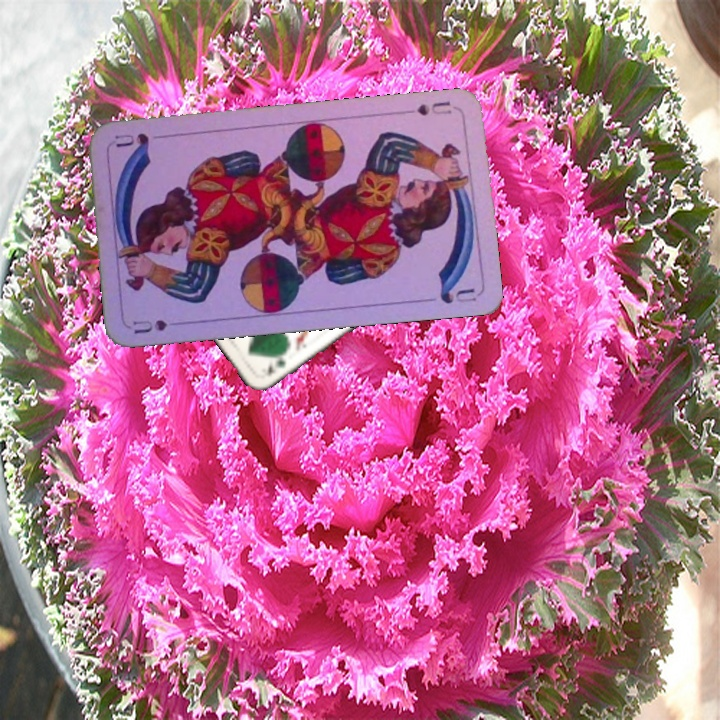GK: (263, 355, 289, 377)
SU: (128, 315, 188, 337), (412, 97, 454, 118)
